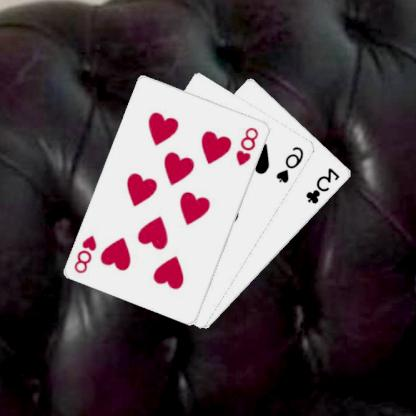3C: (305, 165, 343, 205)
6S: (276, 143, 308, 184)
8H: (73, 232, 101, 275), (235, 124, 262, 167)
